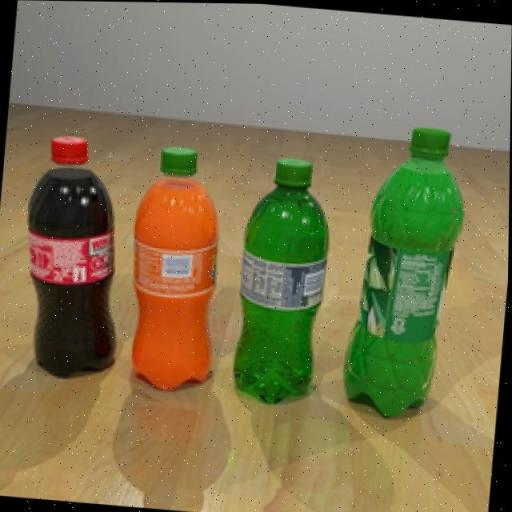plastic: (340, 117, 470, 420), (12, 129, 136, 387), (120, 139, 230, 392), (230, 152, 336, 406)
